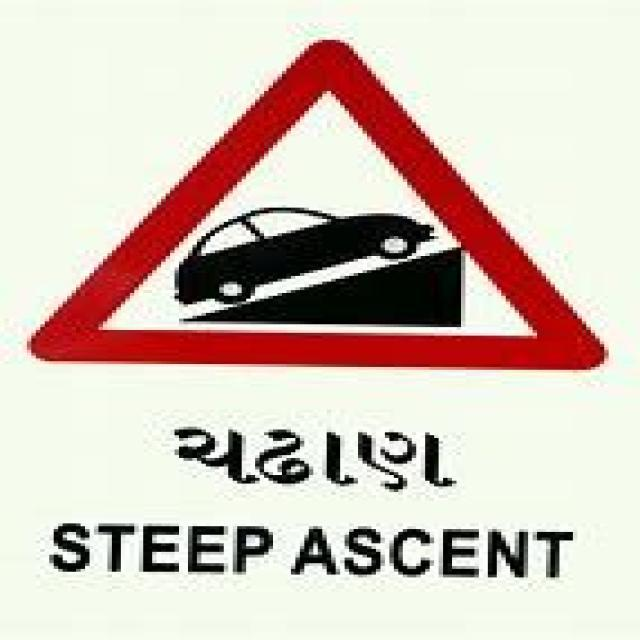steep ascent: (32, 35, 604, 369)
